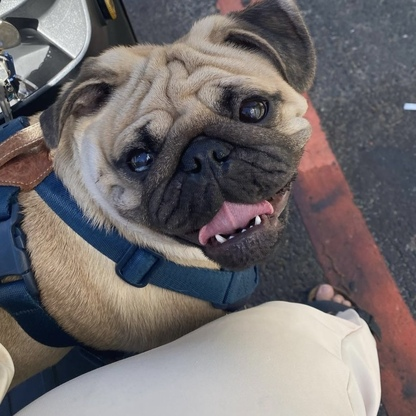Pug: (1, 1, 320, 406)
